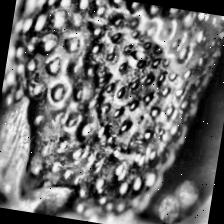Anthracnose Fruit Rot: (64, 7, 200, 162)
